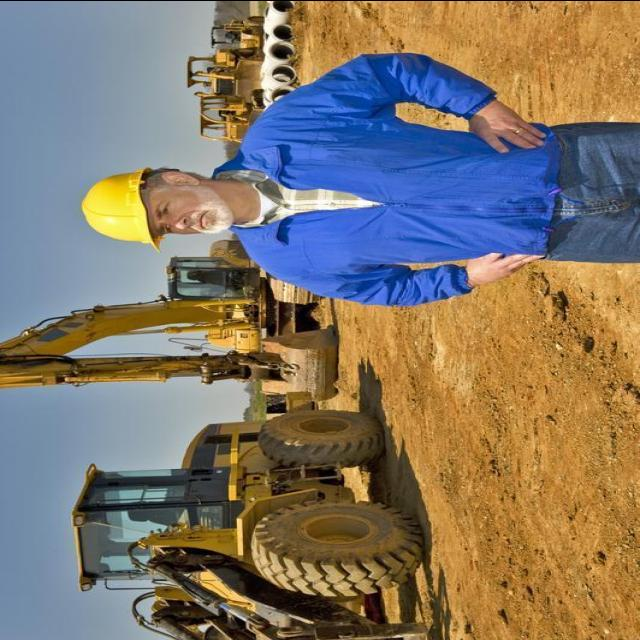helmet: (73, 156, 177, 260)
